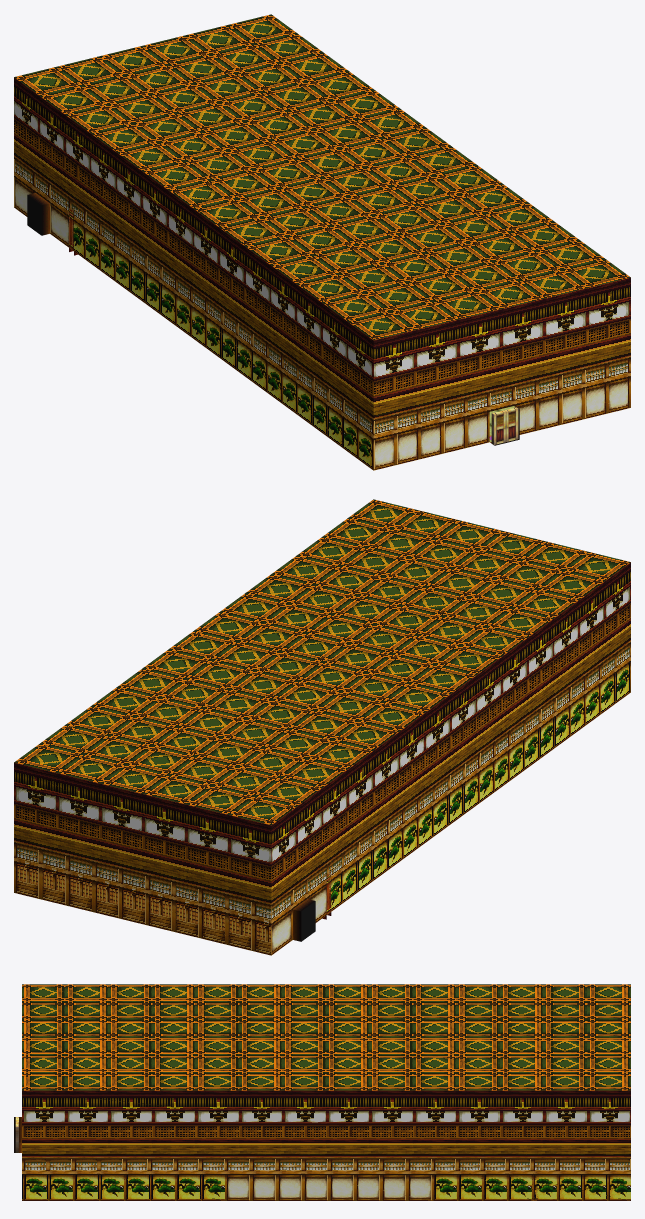
Rendered from Siro-Stagenum-000.obj.
3 renders of one model, top to bottom at view 1: azimuth 30°, elevation 25°; view 2: azimuth 150°, elevation 25°; view 3: azimuth 270°, elevation 25°, orthographic. The views are drawn at different scales.
Visible parts, largest first — view 1: Shape_IndexedFaceSet.019_Shape_IndexedFaceSet.051, Shape_IndexedFaceSet.006_Shape_IndexedFaceSet.038, Shape_IndexedFaceSet.007_Shape_IndexedFaceSet.039, Shape_IndexedFaceSet.001_Shape_IndexedFaceSet.033, Shape_IndexedFaceSet.009_Shape_IndexedFaceSet.041, Shape_IndexedFaceSet.008_Shape_IndexedFaceSet.040; view 2: Shape_IndexedFaceSet.019_Shape_IndexedFaceSet.051, Shape_IndexedFaceSet.006_Shape_IndexedFaceSet.038, Shape_IndexedFaceSet.007_Shape_IndexedFaceSet.039, Shape_IndexedFaceSet.001_Shape_IndexedFaceSet.033, Shape_IndexedFaceSet.005_Shape_IndexedFaceSet.037, Shape_IndexedFaceSet.008_Shape_IndexedFaceSet.040; view 3: Shape_IndexedFaceSet.019_Shape_IndexedFaceSet.051, Shape_IndexedFaceSet.006_Shape_IndexedFaceSet.038, Shape_IndexedFaceSet.002_Shape_IndexedFaceSet.034, Shape_IndexedFaceSet.009_Shape_IndexedFaceSet.041.
Part boxes in pixels (x1,y1,x2,y2): Shape_IndexedFaceSet.019_Shape_IndexedFaceSet.051: (14, 14, 630, 340); Shape_IndexedFaceSet.006_Shape_IndexedFaceSet.038: (14, 77, 373, 418); Shape_IndexedFaceSet.007_Shape_IndexedFaceSet.039: (373, 277, 630, 418); Shape_IndexedFaceSet.001_Shape_IndexedFaceSet.033: (71, 198, 373, 470); Shape_IndexedFaceSet.009_Shape_IndexedFaceSet.041: (373, 356, 630, 470); Shape_IndexedFaceSet.008_Shape_IndexedFaceSet.040: (14, 155, 514, 411); Shape_IndexedFaceSet.019_Shape_IndexedFaceSet.051: (14, 499, 630, 825); Shape_IndexedFaceSet.006_Shape_IndexedFaceSet.038: (271, 562, 630, 903); Shape_IndexedFaceSet.007_Shape_IndexedFaceSet.039: (14, 762, 271, 903); Shape_IndexedFaceSet.001_Shape_IndexedFaceSet.033: (329, 640, 630, 913); Shape_IndexedFaceSet.005_Shape_IndexedFaceSet.037: (14, 841, 271, 955); Shape_IndexedFaceSet.008_Shape_IndexedFaceSet.040: (271, 861, 328, 955); Shape_IndexedFaceSet.019_Shape_IndexedFaceSet.051: (22, 984, 630, 1090); Shape_IndexedFaceSet.006_Shape_IndexedFaceSet.038: (22, 1090, 630, 1156); Shape_IndexedFaceSet.002_Shape_IndexedFaceSet.034: (22, 1157, 630, 1200); Shape_IndexedFaceSet.009_Shape_IndexedFaceSet.041: (225, 1157, 431, 1200).
Bounding box in the file's own units: 12.8 × 6.2 × 30.4.
26 materials, 26 textured.
